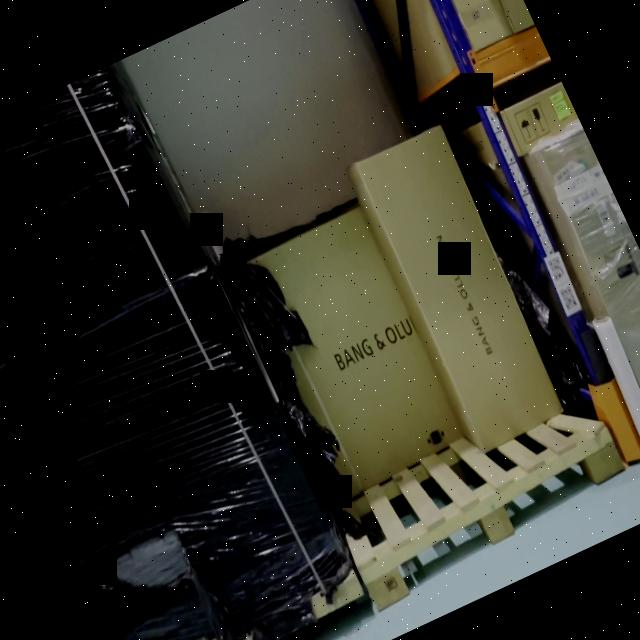box: (0, 64, 351, 640), (226, 206, 469, 501), (356, 128, 564, 447), (541, 129, 640, 403), (503, 82, 580, 150)
